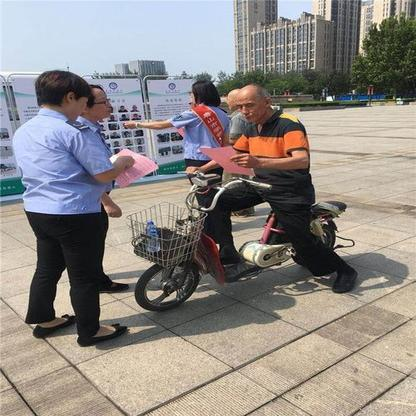target: (128, 84, 360, 314)
